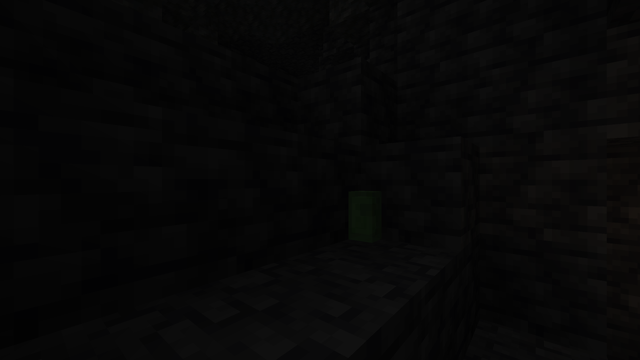slimes: (347, 187, 381, 242)
